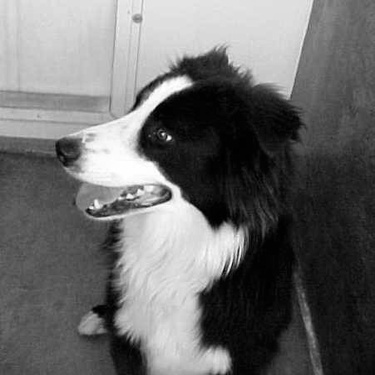dog: (44, 38, 301, 371)
